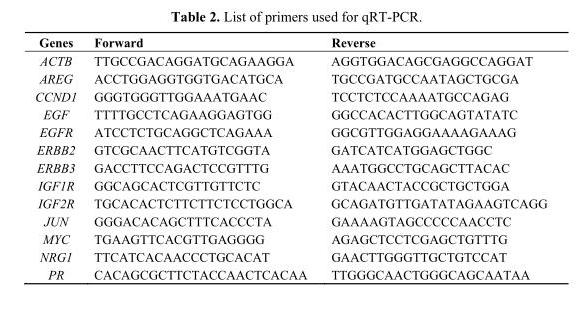table: (34, 34, 546, 281)
table column: (84, 34, 318, 281), (318, 34, 546, 281), (34, 34, 84, 281)
table column header: (34, 34, 546, 51)
table row: (34, 51, 546, 69), (34, 69, 546, 87), (34, 104, 546, 122), (34, 122, 546, 140), (34, 140, 546, 158), (34, 158, 546, 176), (34, 176, 546, 194), (34, 211, 546, 229), (34, 229, 546, 247), (34, 247, 546, 265), (34, 34, 546, 51), (34, 87, 546, 104), (34, 194, 546, 211), (34, 265, 546, 281)
